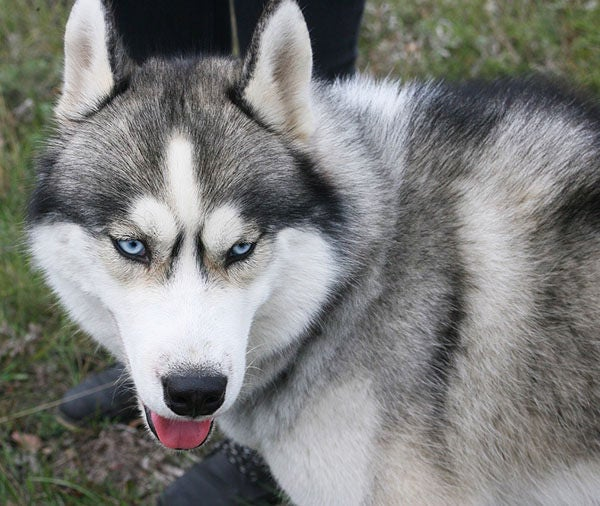husky: (23, 3, 361, 465)
